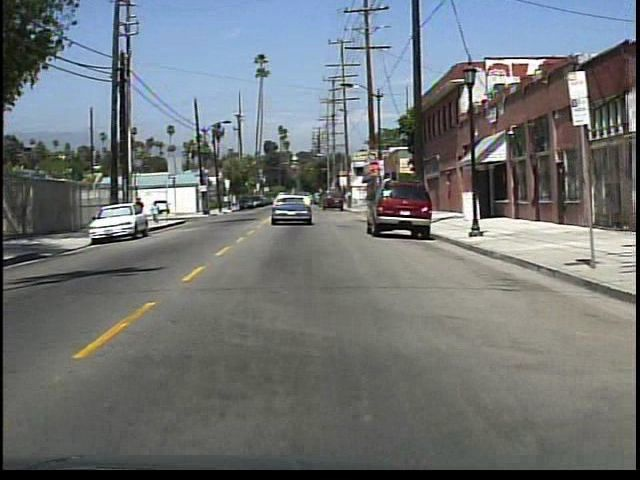person: (133, 194, 149, 228), (150, 199, 163, 226)
